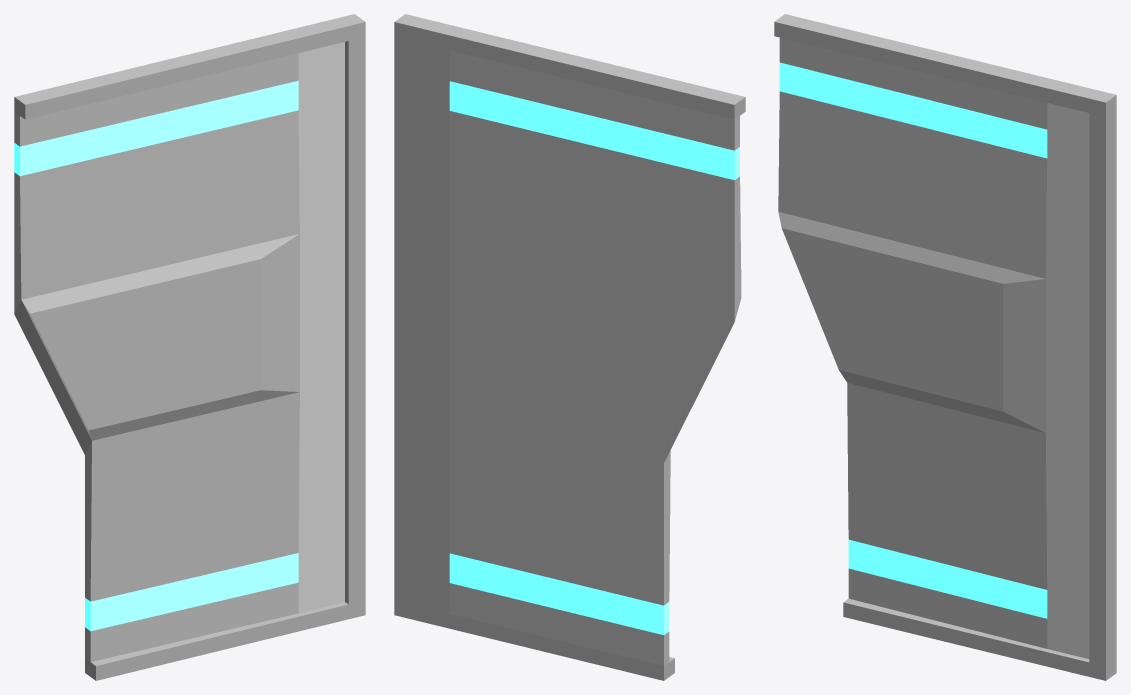
The model's file is Right Door 1.fbx.
3 renders of one model, left to right at view 1: azimuth 30°, elevation 25°; view 2: azimuth 150°, elevation 25°; view 3: azimuth 330°, elevation 25°, orthographic. The views are drawn at different scales.
Parts seen in each view (by area): view 1: Cube.001; view 2: Cube.001; view 3: Cube.001.
Part boxes in pixels (<box>): Cube.001: <box>14,14,365,680</box>; Cube.001: <box>394,14,745,680</box>; Cube.001: <box>774,14,1116,680</box>.
Bounding box in the file's own units: 180 × 300 × 10.28.
